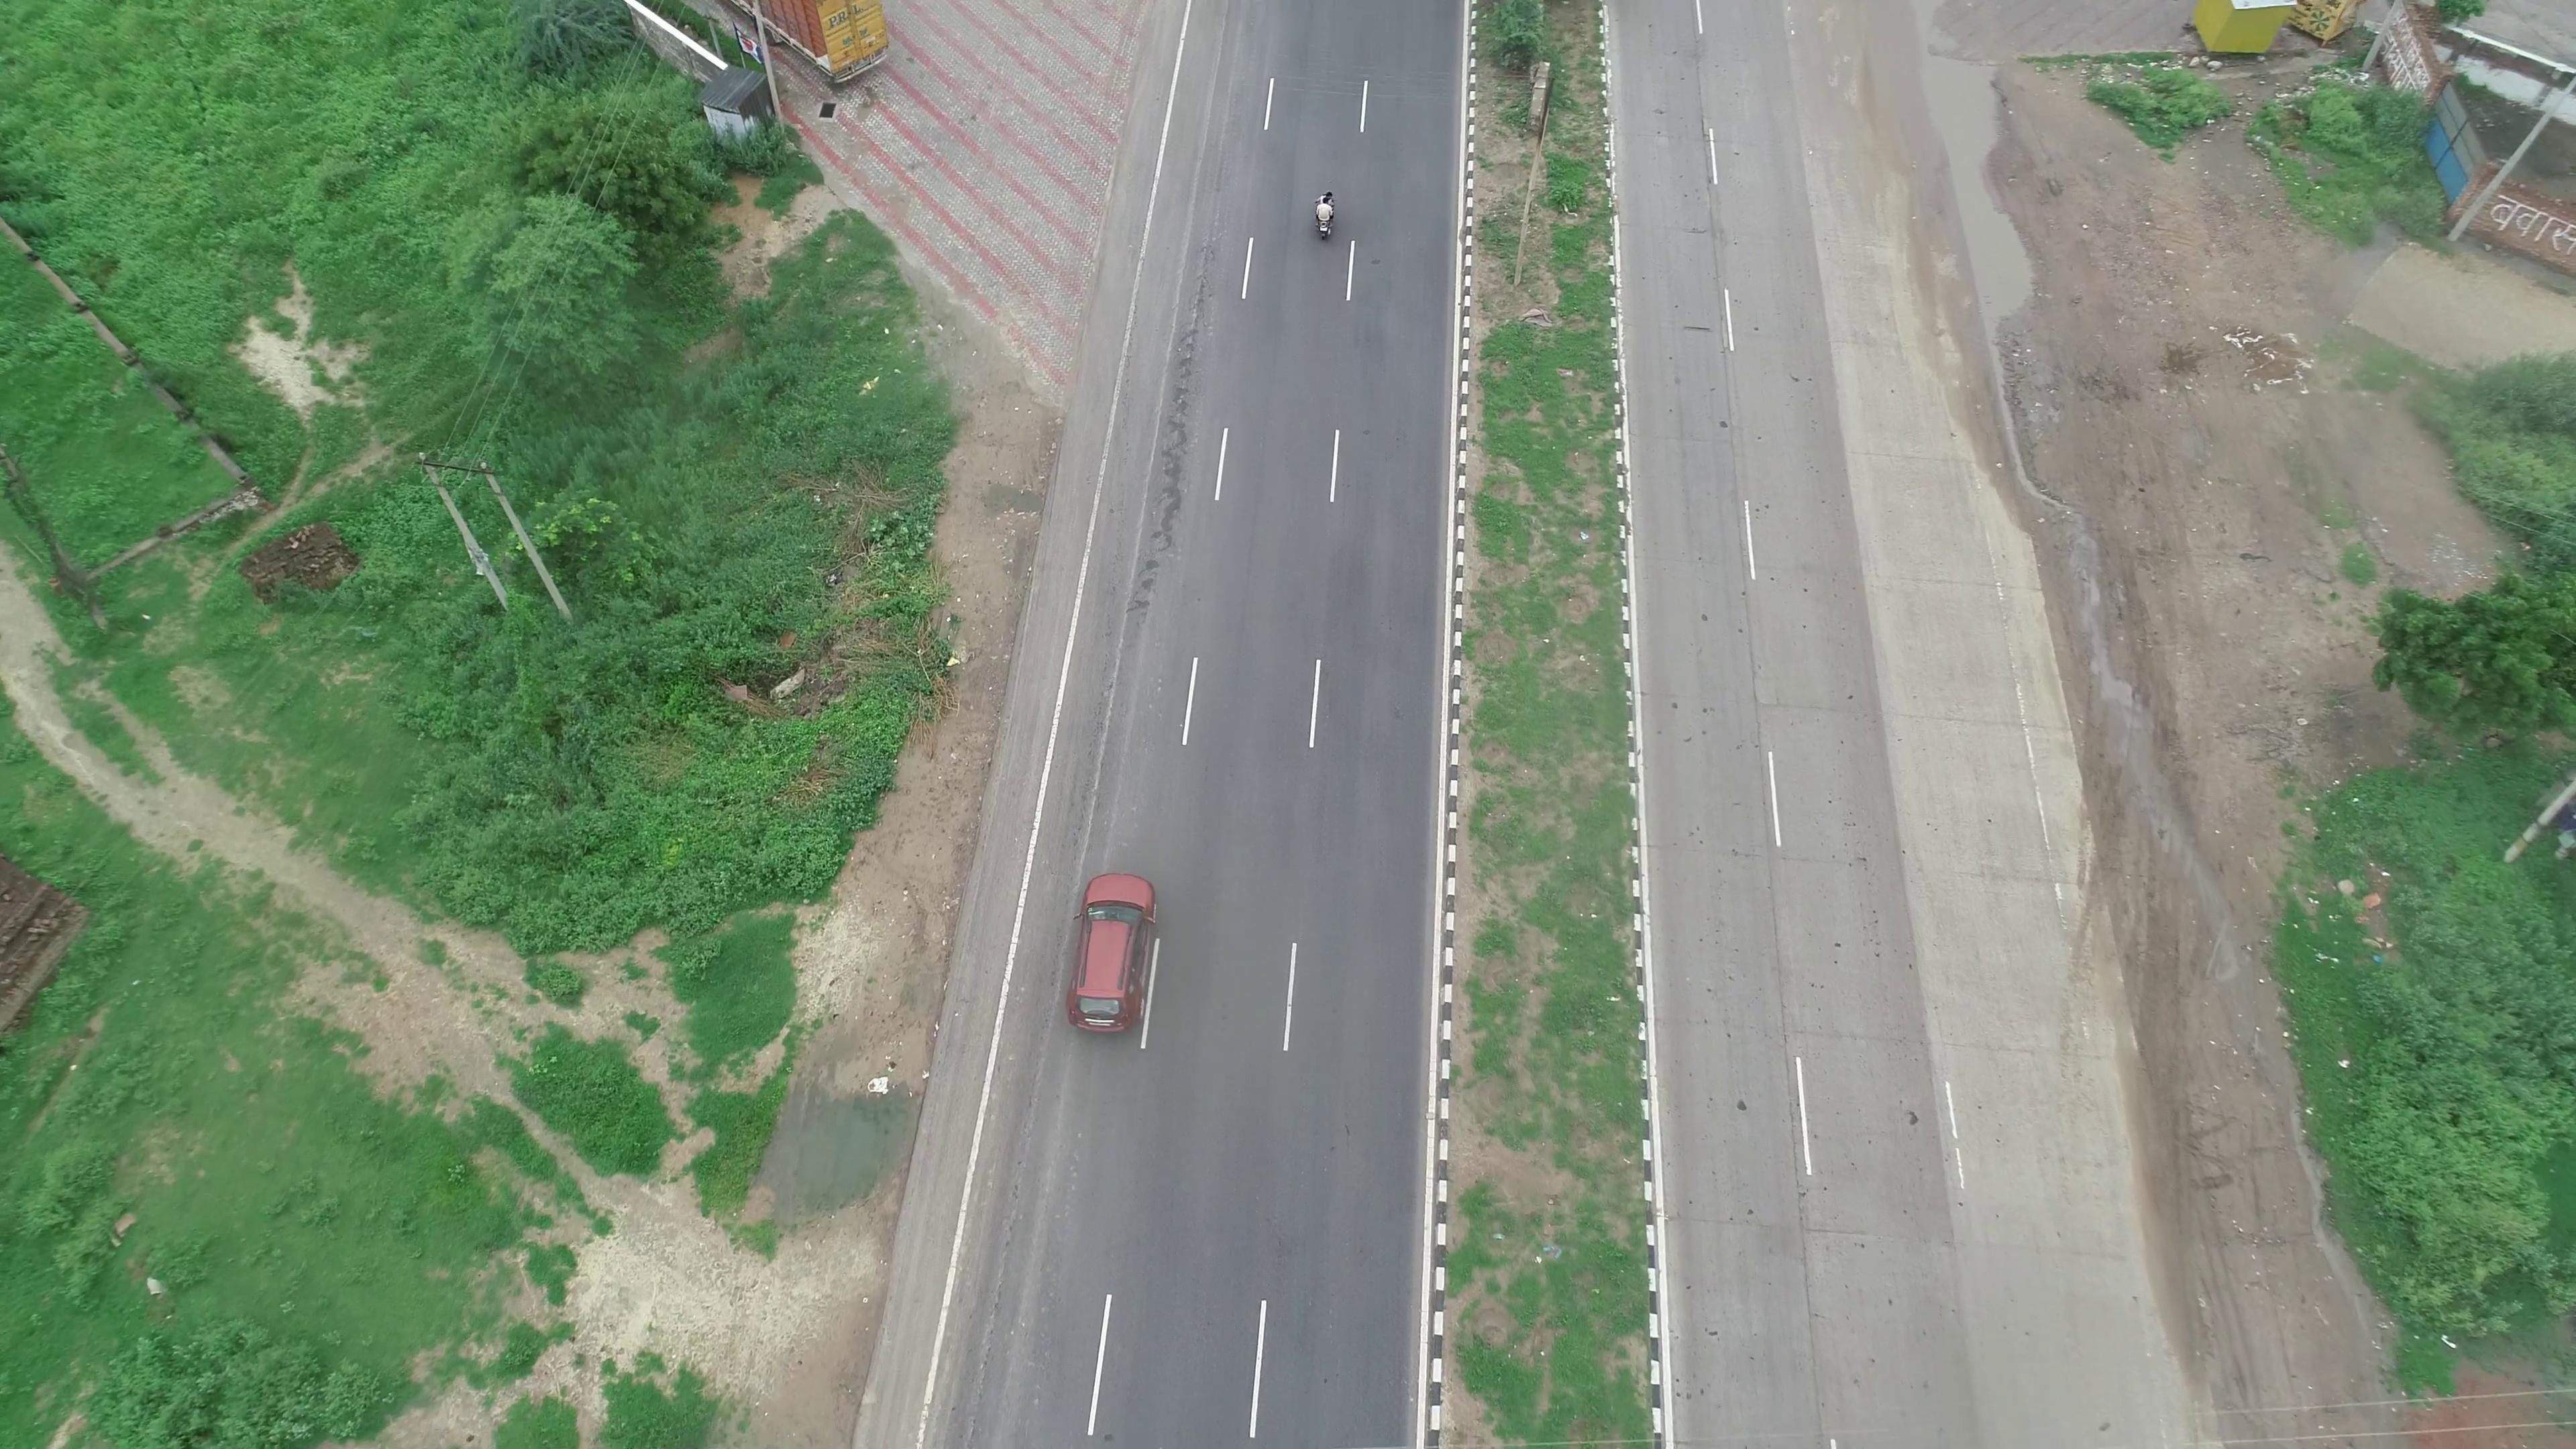Ravelling: (1129, 260, 1214, 609)
